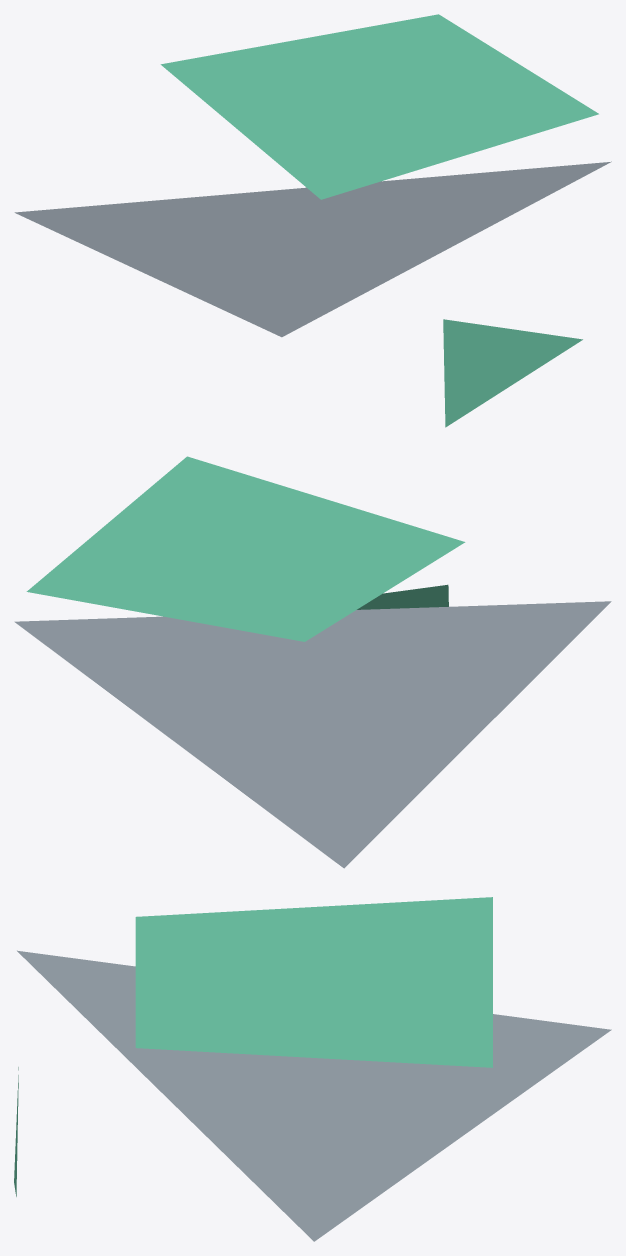
The model's file is CO_Refinery_LOD2.glb.
3 views of the same model, one above another, from view 1: azimuth 30°, elevation 25°; view 2: azimuth 150°, elevation 25°; view 3: azimuth 270°, elevation 25° (orthographic). The views are drawn at different scales.
Parts seen in each view (by area): view 1: EntranceGate; view 2: EntranceGate; view 3: EntranceGate.
Boxes of the visible parts, <box> form: EntranceGate: <box>14,14,611,427</box>; EntranceGate: <box>14,456,611,868</box>; EntranceGate: <box>14,897,611,1241</box>.
Size of the model in its own units: 800 by 367 by 803.
